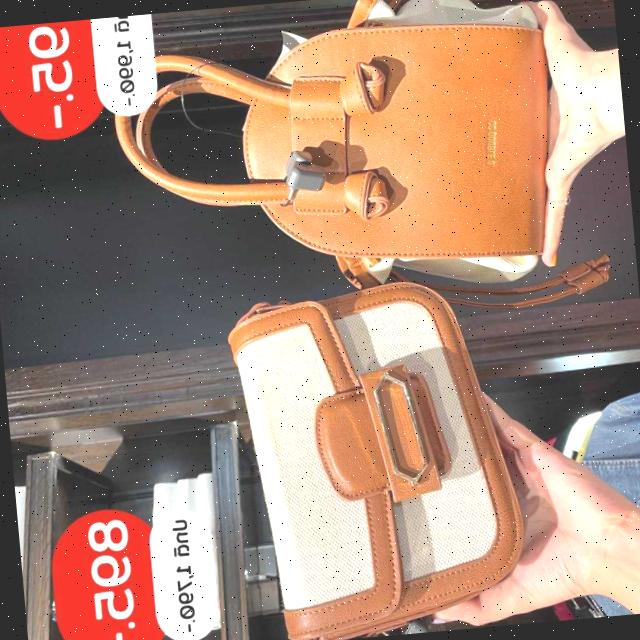handbag: (215, 264, 545, 640), (202, 13, 562, 290)
